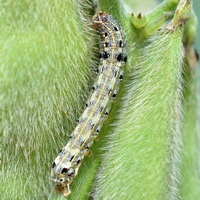insect: (52, 11, 126, 195)
